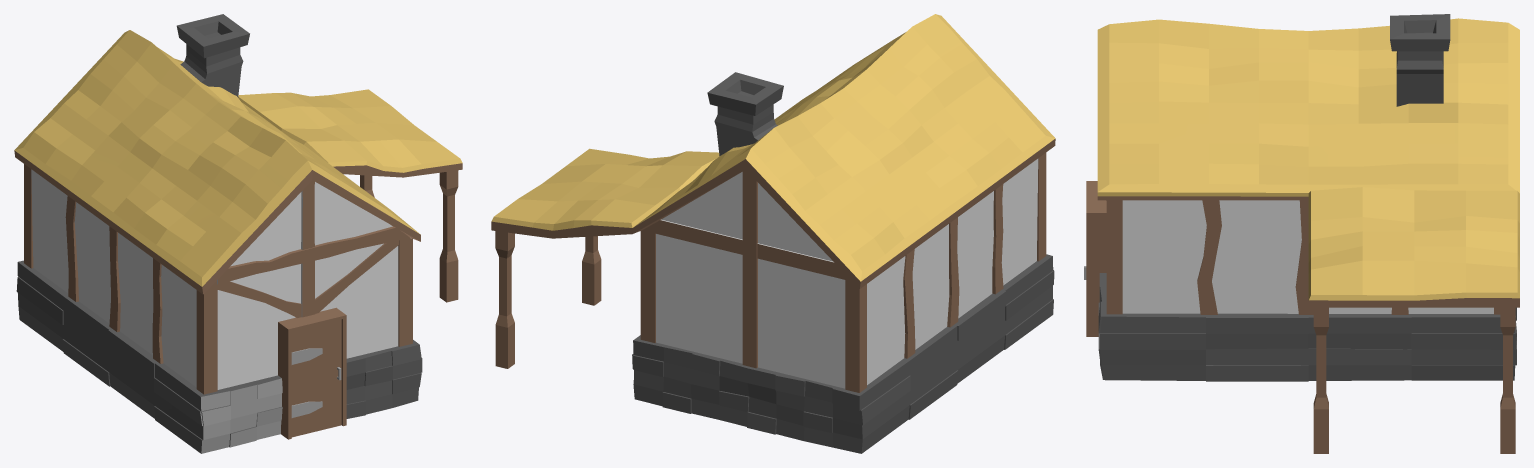
The model's file is huisje 1.fbx.
3 views of the same model, side by side, from view 1: azimuth 30°, elevation 25°; view 2: azimuth 150°, elevation 25°; view 3: azimuth 270°, elevation 25° (orthographic). The views are drawn at different scales.
Visible parts, largest first — view 1: Cube; view 2: Cube; view 3: Cube.
Part boxes in pixels (bbox=[...]): Cube: bbox=[14, 14, 462, 453]; Cube: bbox=[491, 14, 1055, 453]; Cube: bbox=[1084, 14, 1519, 453].
Bounding box in the file's own units: 922 × 705 × 873.
